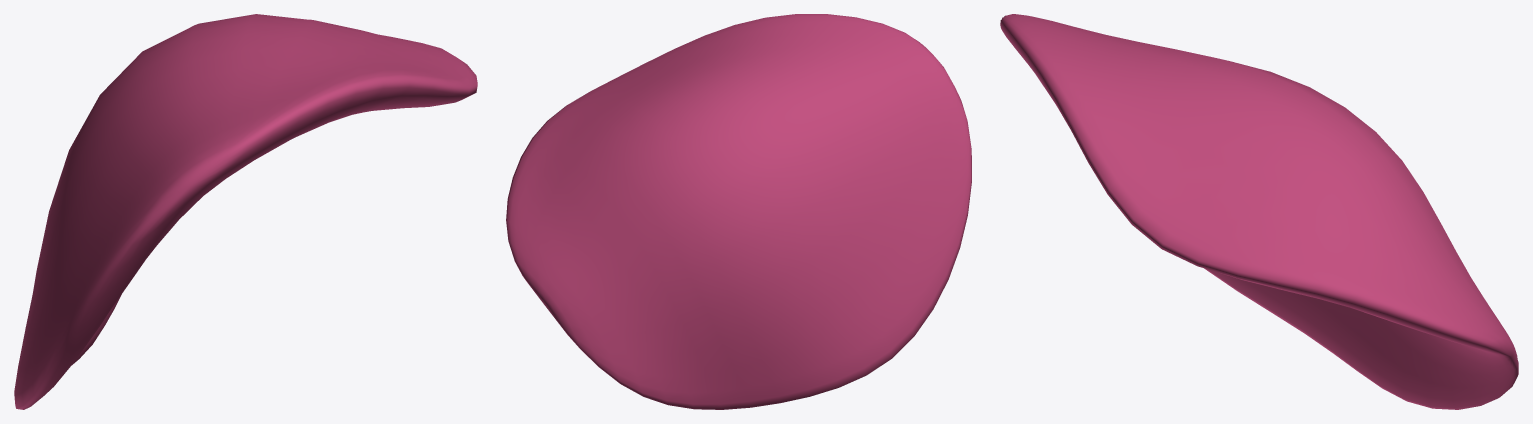
The picture shows the model from 3 angles, left to right: view 1: azimuth 30°, elevation 25°; view 2: azimuth 150°, elevation 25°; view 3: azimuth 270°, elevation 25°; orthographic projection. The views are drawn at different scales.
Parts seen in each view (by area): view 1: 右侧臀大肌坐骨囊; view 2: 右侧臀大肌坐骨囊; view 3: 右侧臀大肌坐骨囊.
Part boxes in pixels (bbox=[...]): 右侧臀大肌坐骨囊: bbox=[14, 14, 477, 409]; 右侧臀大肌坐骨囊: bbox=[506, 14, 971, 409]; 右侧臀大肌坐骨囊: bbox=[1000, 14, 1518, 409].
Bounding box in the file's own units: 0.0389 × 0.03 × 0.0376.
